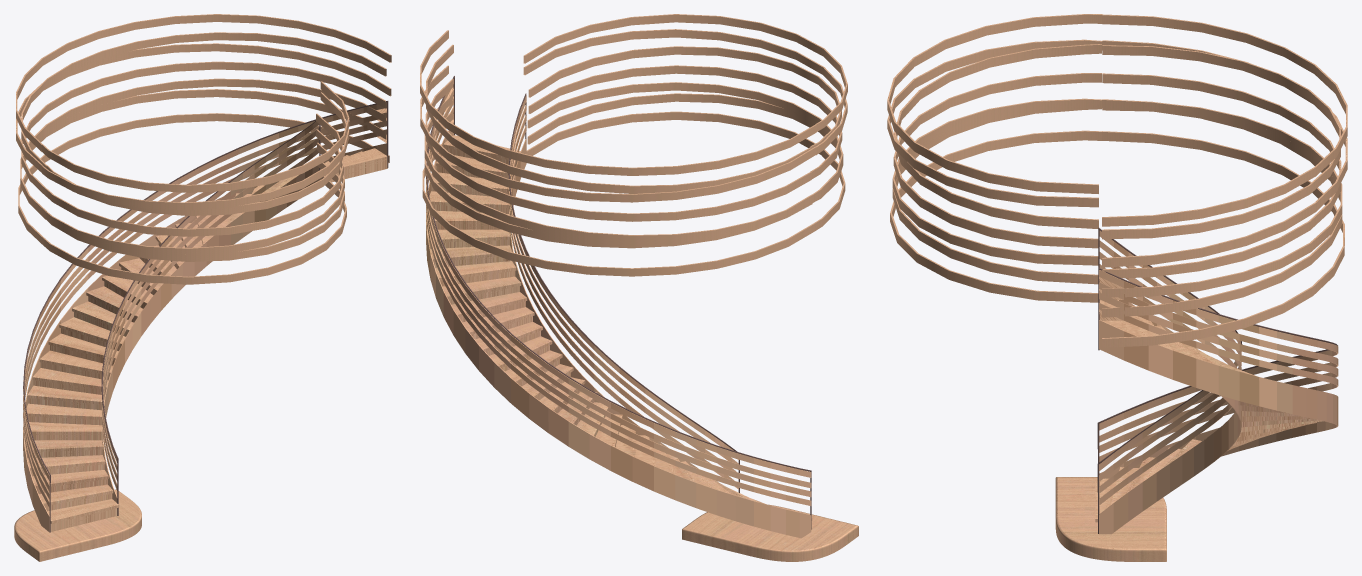
File: chinese_stairs.glb
3 renders of one model, left to right at view 1: azimuth 30°, elevation 25°; view 2: azimuth 150°, elevation 25°; view 3: azimuth 270°, elevation 25°, orthographic. The views are drawn at different scales.
Visible parts, largest first — view 1: Object_4, Object_2, Object_3, Object_5; view 2: Object_4, Object_2, Object_3, Object_5; view 3: Object_4, Object_2, Object_3, Object_5.
Part boxes in pixels (x1,y1,x2,y2): Object_4: [16, 14, 391, 284]; Object_2: [23, 102, 387, 532]; Object_3: [14, 489, 141, 561]; Object_5: [23, 101, 388, 532]; Object_4: [420, 14, 847, 276]; Object_2: [426, 79, 812, 538]; Object_3: [682, 504, 858, 561]; Object_5: [426, 76, 811, 529]; Object_4: [887, 14, 1347, 347]; Object_2: [1095, 230, 1338, 534]; Object_3: [1055, 477, 1166, 561]; Object_5: [1097, 227, 1337, 533].
Size of the model in its own units: 1118 by 1160 by 983.
Materials: 4 (4 with a texture image).
